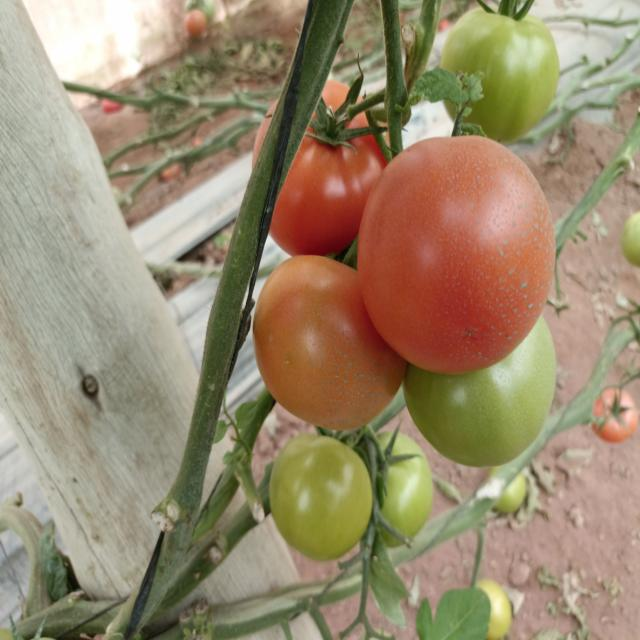Ripe Tomato: (363, 136, 555, 374), (259, 255, 411, 427), (248, 74, 388, 252)
Unripe Tomato: (407, 315, 558, 474), (442, 8, 558, 134), (268, 436, 371, 558), (366, 436, 433, 546)
